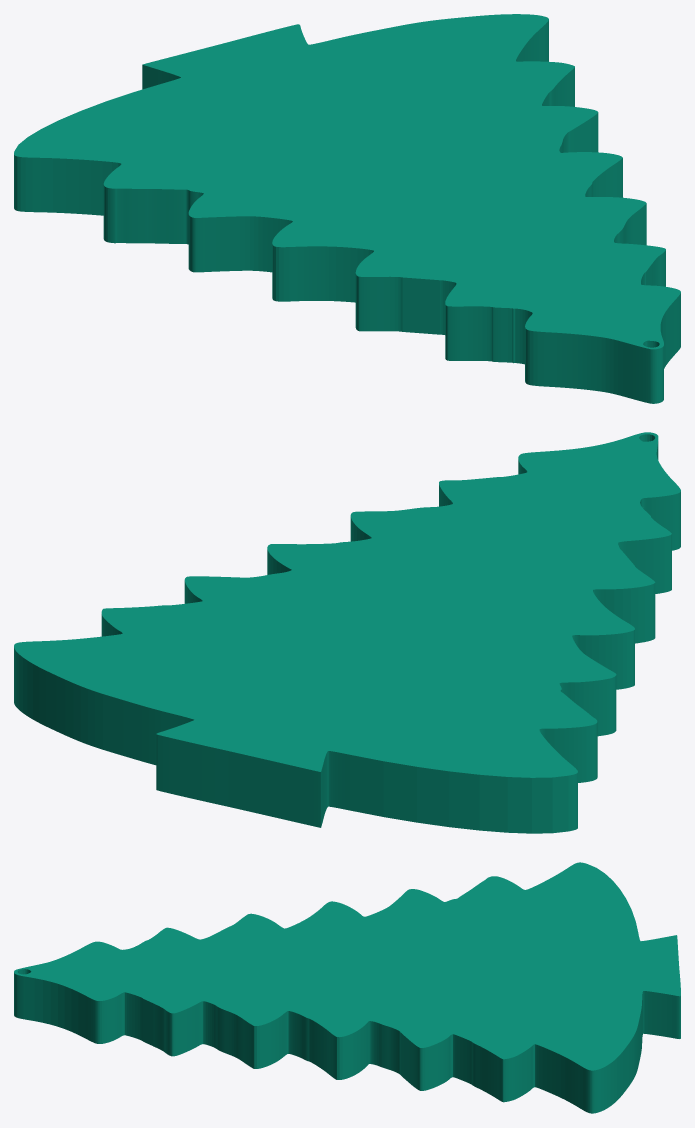
The model's file is prova8.obj.
3 views of the same model, one above another, from view 1: azimuth 30°, elevation 25°; view 2: azimuth 150°, elevation 25°; view 3: azimuth 270°, elevation 25° (orthographic). The views are drawn at different scales.
Visible parts, largest first — view 1: group_0_498561; view 2: group_0_498561; view 3: group_0_498561.
Boxes of the visible parts, bbox=[...] form: group_0_498561: bbox=[14, 14, 680, 403]; group_0_498561: bbox=[14, 432, 680, 833]; group_0_498561: bbox=[14, 862, 680, 1113].
Size of the model in its own units: 416 by 42 by 563.
